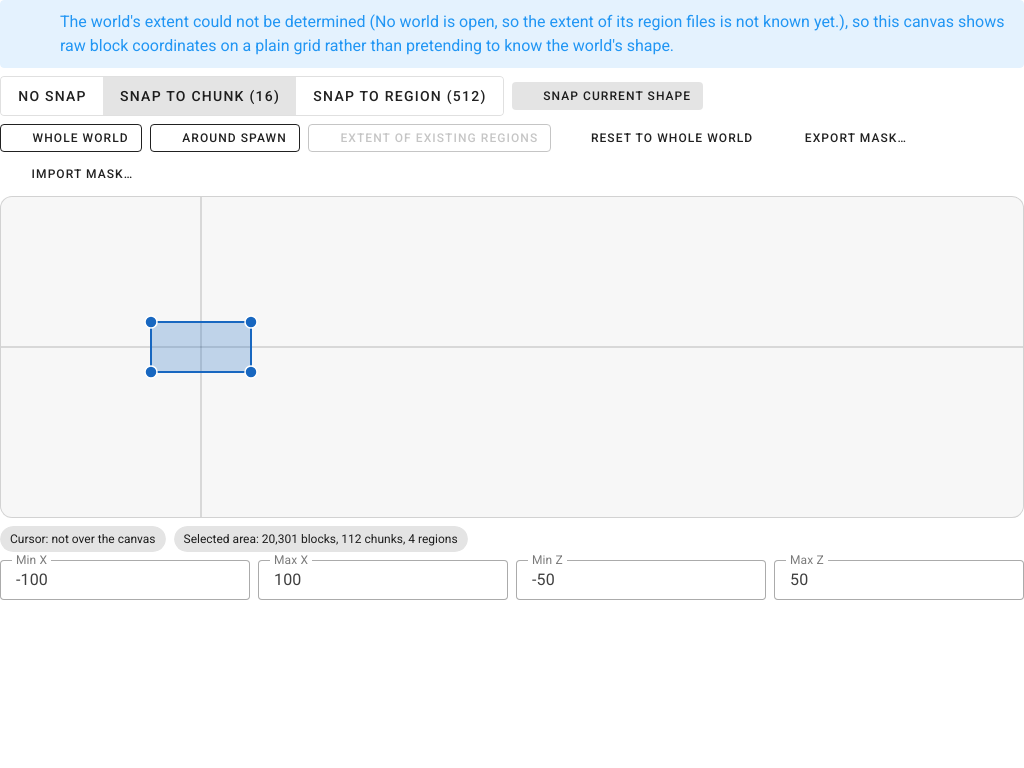
Test: numeric fields › reports a partially-typed number inline, without discarding the last committed shape
The image size is (1024, 768).
Clear the number field labelled "Max X": x=383, y=580 [258,560,508,600]
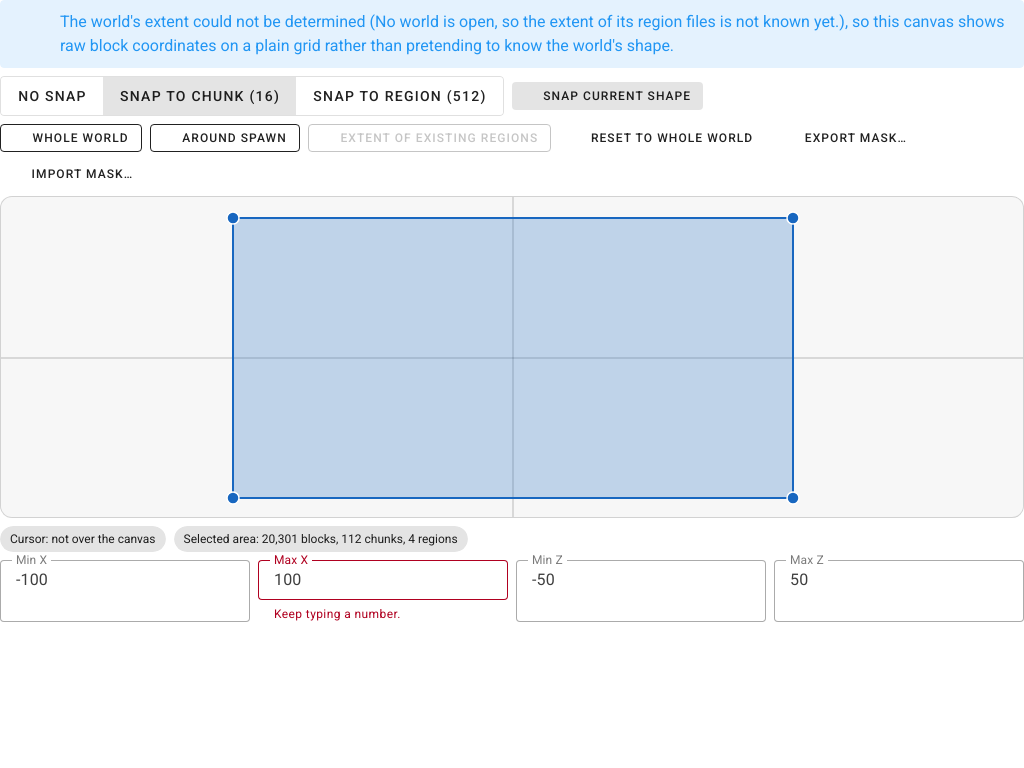
Check: the text "Keep typing a number" is shown, box [274,607,401,621]
